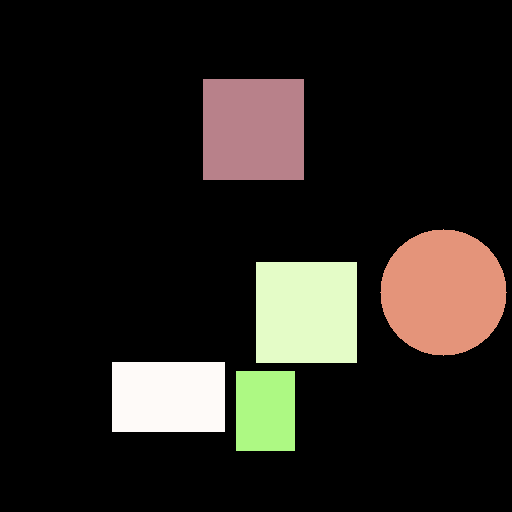circle: (380, 229, 506, 355)
rectangle: (112, 362, 224, 431), (236, 371, 294, 450)
square: (256, 262, 356, 362), (203, 79, 303, 179)
